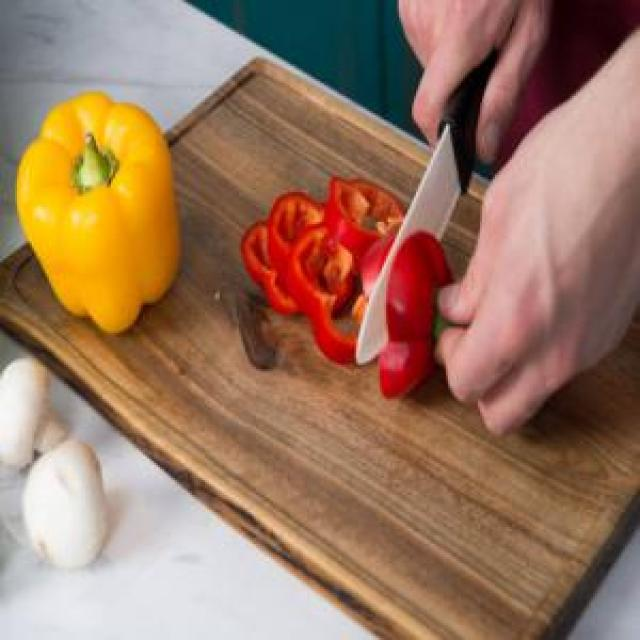knife: (354, 34, 504, 371)
